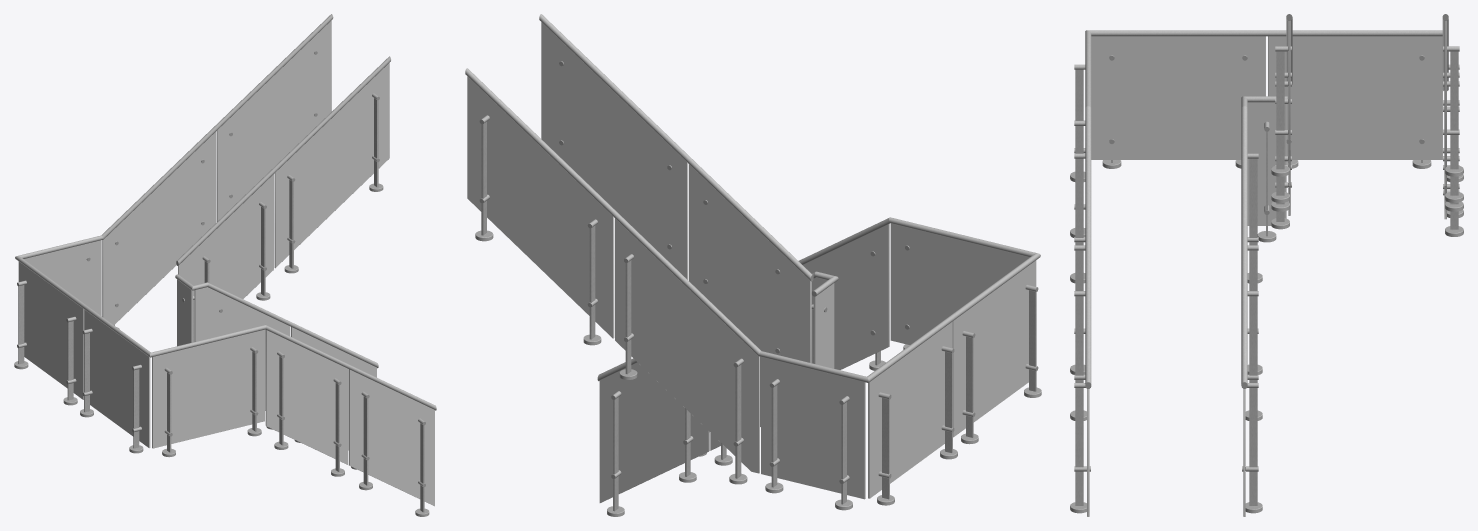
The model's file is Switchback_Railing_Kubit.gltf.
3 views of the same model, side by side, from view 1: azimuth 30°, elevation 25°; view 2: azimuth 150°, elevation 25°; view 3: azimuth 270°, elevation 25° (orthographic). The views are drawn at different scales.
Parts seen in each view (by area): view 1: Casework 1 Casework 1 [8738332], Infill_Glass_Raked & Horizontal Generic [8736296], Infill_Glass_Raked & Horizontal Generic [8200579], Infill_Glass_Raked & Horizontal Generic [8739156], Infill_Glass_Raked & Horizontal Generic [8735940], Infill_Glass_Raked & Horizontal Generic [8739593], Infill_Glass_Raked & Horizontal Generic [8199751], Infill_Glass_Raked & Horizontal Generic [8739062], Infill_Glass_Raked & Horizontal Generic [8738822], Generic Models 10 Generic Models 1 [8735975], Infill_Glass_Raked & Horizontal Generic [8737682], Infill_Glass_Transition Generic [8202170] (+8 smaller); view 2: Infill_Glass_Raked & Horizontal Generic [8200579], Infill_Glass_Raked & Horizontal Generic [8736296], Casework 1 Casework 1 [8738332], Infill_Glass_Raked & Horizontal Generic [8199751], Infill_Glass_Raked & Horizontal Generic [8737682], Infill_Glass_Raked & Horizontal Generic [8739156], Infill_Glass_Raked & Horizontal Generic [8202939], Infill_Glass_Raked & Horizontal Generic [8738822], Infill_Glass_Raked & Horizontal Generic [8739062], Infill_Glass_Raked & Horizontal Generic [8739593], Generic Models 10 Generic Models 1 [8735975], Generic Models 2 Generic Models 2 [8568681] (+11 smaller); view 3: Infill_Glass_Raked & Horizontal Generic [8739062], Infill_Glass_Raked & Horizontal Generic [8738822], Generic Models 10 Generic Models 1 [8735975], Infill_Glass_Raked & Horizontal Generic [8201308], Generic Models 1 Generic Models 1 [8568048], LS147 & LS148 - Kubit Post Material LS Material [8739192]029, LS147 & LS148 - Kubit Post Material LS Material [8739192]033, LS147 & LS148 - Kubit Post Material LS Material [8739192]037, LS147 & LS148 - Kubit Post Material LS Material [8739192]040, LS147 & LS148 - Kubit Post Material LS Material [8739192]025, LS147 & LS148 - Kubit Post Material LS Material [8739192]034, LS147 & LS148 - Kubit Post Material LS Material [8739192]032 (+4 smaller).
Part boxes in pixels (<box>): Casework 1 Casework 1 [8738332]: <box>102,132,215,324</box>; Infill_Glass_Raked & Horizontal Generic [8736296]: <box>216,20,331,221</box>; Infill_Glass_Raked & Horizontal Generic [8200579]: <box>274,63,389,268</box>; Infill_Glass_Raked & Horizontal Generic [8739156]: <box>152,329,264,448</box>; Infill_Glass_Raked & Horizontal Generic [8735940]: <box>349,369,434,506</box>; Infill_Glass_Raked & Horizontal Generic [8739593]: <box>265,330,348,464</box>; Infill_Glass_Raked & Horizontal Generic [8199751]: <box>178,174,273,341</box>; Infill_Glass_Raked & Horizontal Generic [8739062]: <box>84,309,150,447</box>; Infill_Glass_Raked & Horizontal Generic [8738822]: <box>18,261,84,399</box>; Generic Models 10 Generic Models 1 [8735975]: <box>15,14,436,410</box>; Infill_Glass_Raked & Horizontal Generic [8737682]: <box>24,240,101,315</box>; Infill_Glass_Transition Generic [8202170]: <box>194,287,290,410</box>; Infill_Glass_Raked & Horizontal Generic [8200579]: <box>541,22,688,279</box>; Infill_Glass_Raked & Horizontal Generic [8736296]: <box>467,76,614,338</box>; Casework 1 Casework 1 [8738332]: <box>615,218,759,473</box>; Infill_Glass_Raked & Horizontal Generic [8199751]: <box>689,164,811,362</box>; Infill_Glass_Raked & Horizontal Generic [8737682]: <box>761,357,865,499</box>; Infill_Glass_Raked & Horizontal Generic [8739156]: <box>890,223,1029,344</box>; Infill_Glass_Raked & Horizontal Generic [8202939]: <box>599,362,709,502</box>; Infill_Glass_Raked & Horizontal Generic [8738822]: <box>868,321,952,498</box>; Infill_Glass_Raked & Horizontal Generic [8739062]: <box>952,260,1036,437</box>; Infill_Glass_Raked & Horizontal Generic [8739593]: <box>803,224,889,369</box>; Generic Models 10 Generic Models 1 [8735975]: <box>465,68,1040,382</box>; Generic Models 2 Generic Models 2 [8568681]: <box>539,14,813,281</box>; Infill_Glass_Raked & Horizontal Generic [8739062]: <box>1091,36,1265,159</box>; Infill_Glass_Raked & Horizontal Generic [8738822]: <box>1268,36,1442,159</box>; Generic Models 10 Generic Models 1 [8735975]: <box>1085,14,1448,388</box>; Infill_Glass_Raked & Horizontal Generic [8201308]: <box>1247,102,1286,225</box>; Generic Models 1 Generic Models 1 [8568048]: <box>1241,96,1287,388</box>; LS147 & LS148 - Kubit Post Material LS Material [8739192]029: <box>1276,51,1284,169</box>; LS147 & LS148 - Kubit Post Material LS Material [8739192]033: <box>1249,388,1257,505</box>; LS147 & LS148 - Kubit Post Material LS Material [8739192]037: <box>1075,388,1083,505</box>; LS147 & LS148 - Kubit Post Material LS Material [8739192]040: <box>1450,51,1458,169</box>; LS147 & LS148 - Kubit Post Material LS Material [8739192]025: <box>1249,158,1257,245</box>; LS147 & LS148 - Kubit Post Material LS Material [8739192]034: <box>1075,158,1083,245</box>; LS147 & LS148 - Kubit Post Material LS Material [8739192]032: <box>1249,296,1257,382</box>.
Bounding box in the file's own units: 3.07 × 3.51 × 2.39.
4 materials, 2 textured.
